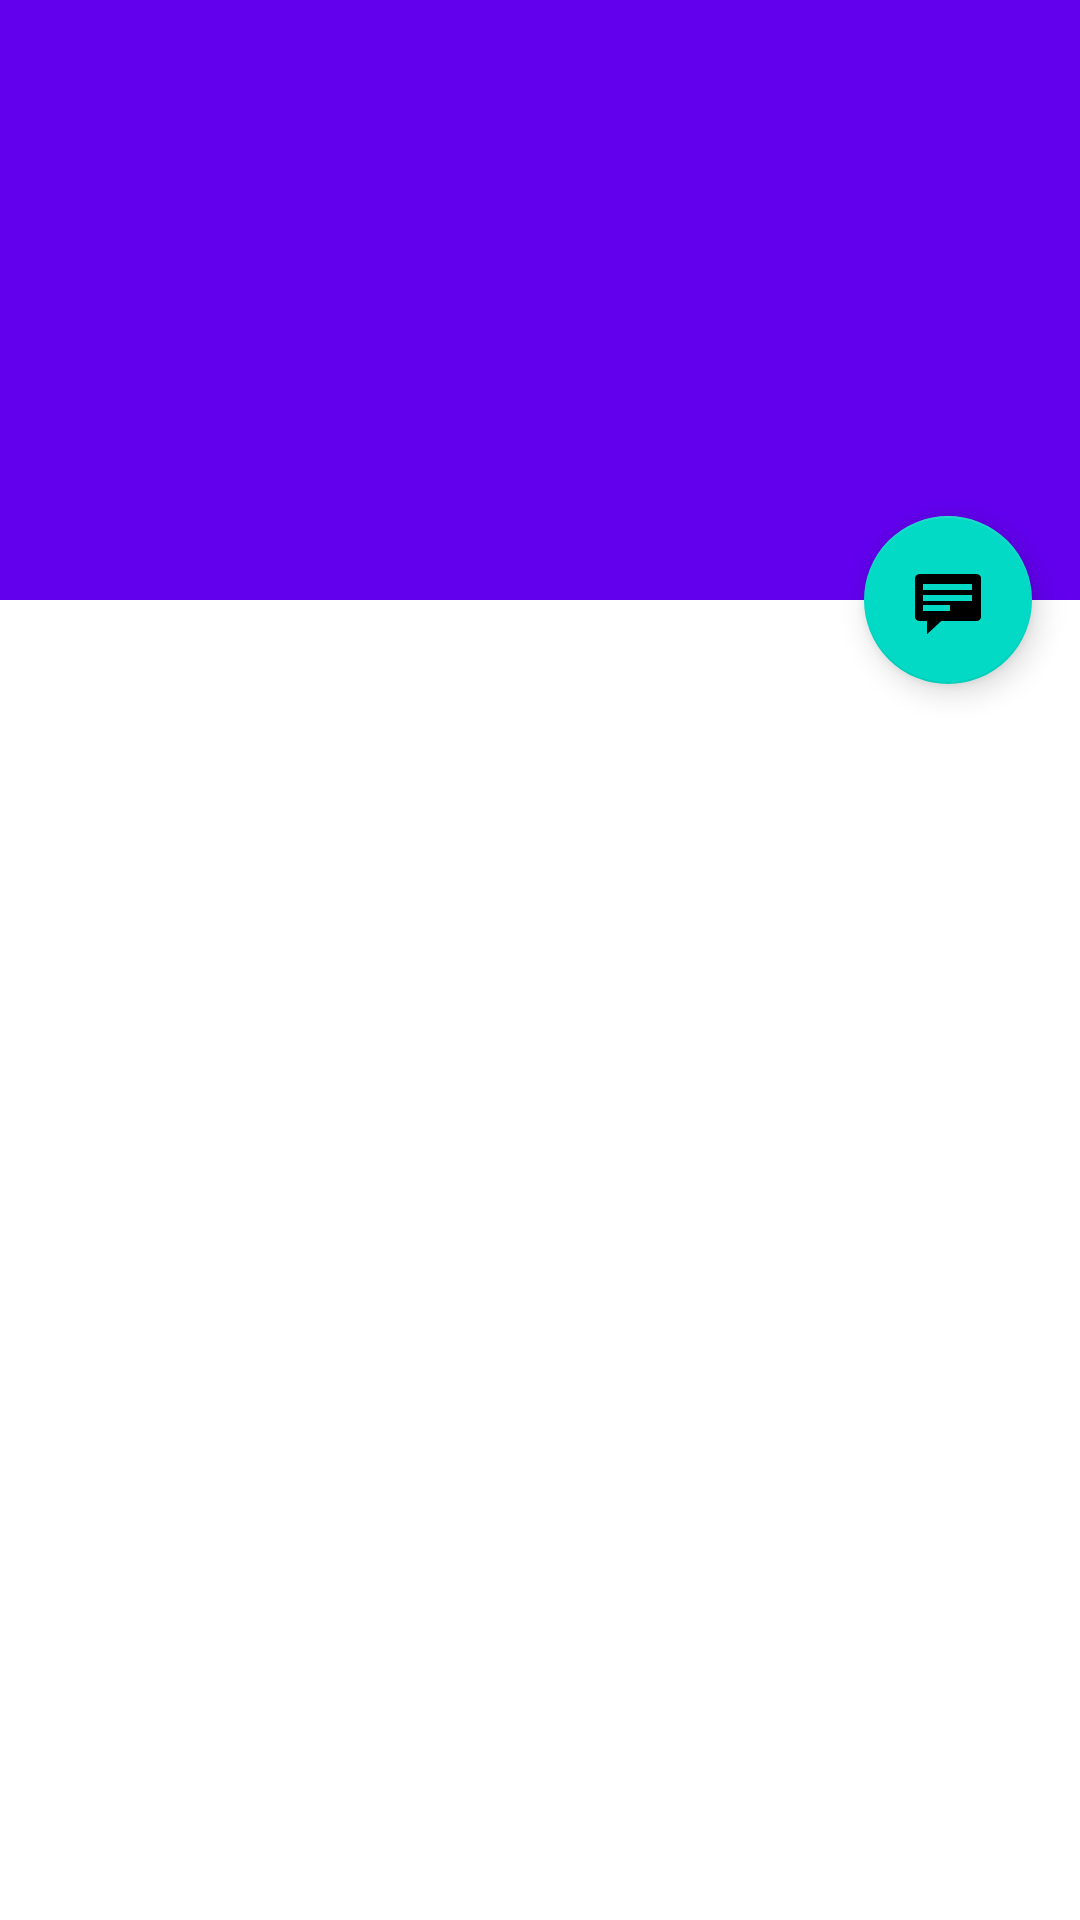

Icons on this 1080w x 1920h Android screen, each with the point to tap as (x=x, y=y):
chat: (x=948, y=600)
